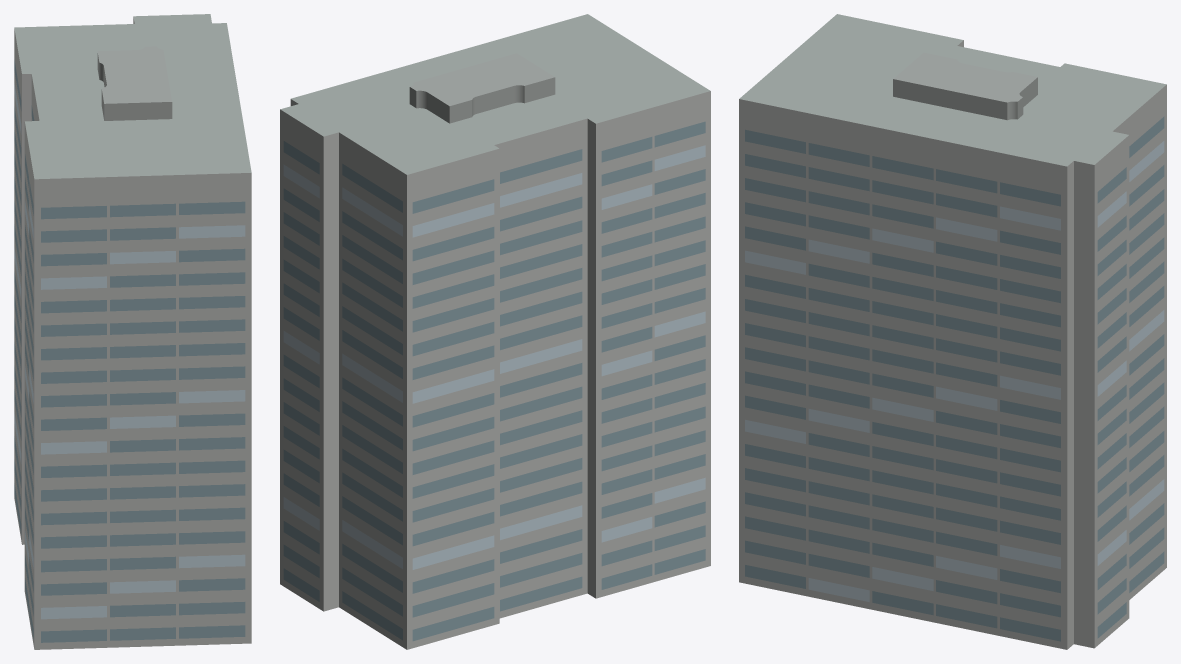
The model's file is apt-a10023395.glb.
3 renders of one model, left to right at view 1: azimuth 30°, elevation 25°; view 2: azimuth 150°, elevation 25°; view 3: azimuth 270°, elevation 25°, orthographic. The views are drawn at different scales.
Parts seen in each view (by area): view 1: apt-a10023395; view 2: apt-a10023395; view 3: apt-a10023395.
Boxes of the visible parts, x1=… form: apt-a10023395: x1=14, y1=14, x2=251, y2=649; apt-a10023395: x1=280, y1=14, x2=710, y2=649; apt-a10023395: x1=739, y1=14, x2=1166, y2=649.
Size of the model in its own units: 44.41 by 68 by 52.62.
